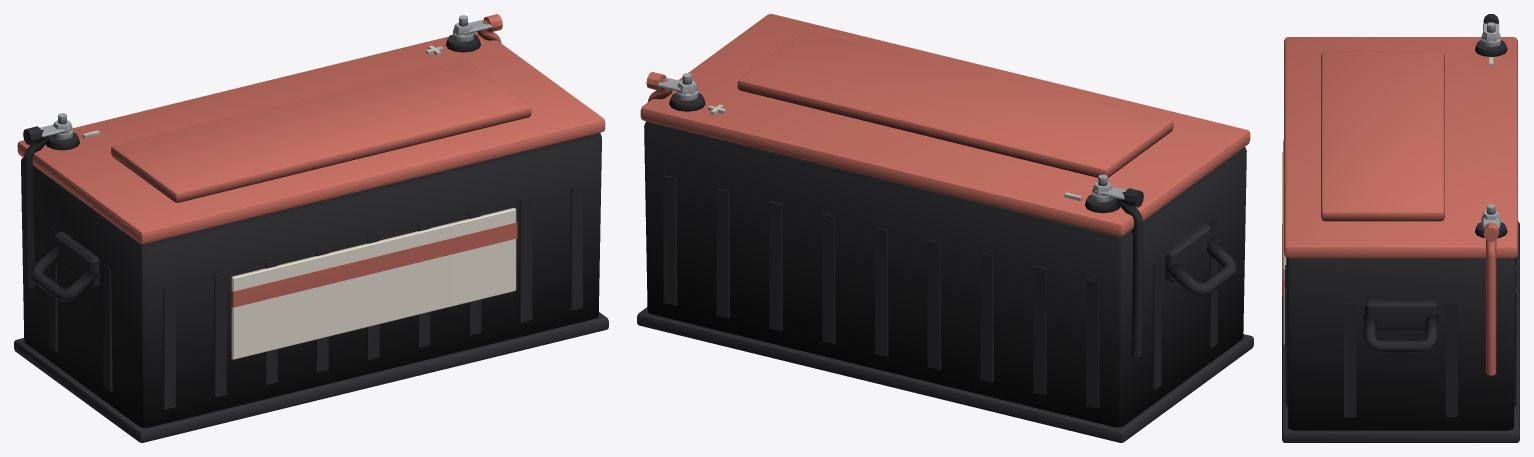
The model's file is bat_house.glb.
The picture shows the model from 3 angles, left to right: view 1: azimuth 30°, elevation 25°; view 2: azimuth 150°, elevation 25°; view 3: azimuth 270°, elevation 25°; orthographic projection. The views are drawn at different scales.
Visible parts, largest first — view 1: PART; view 2: PART; view 3: PART.
Part boxes in pixels (box(x1,y1,x2,y2)): PART: box(14, 14, 608, 442); PART: box(637, 14, 1253, 442); PART: box(1282, 14, 1519, 442).
Bounding box in the file's own units: 0.5598 × 0.2395 × 0.232.
